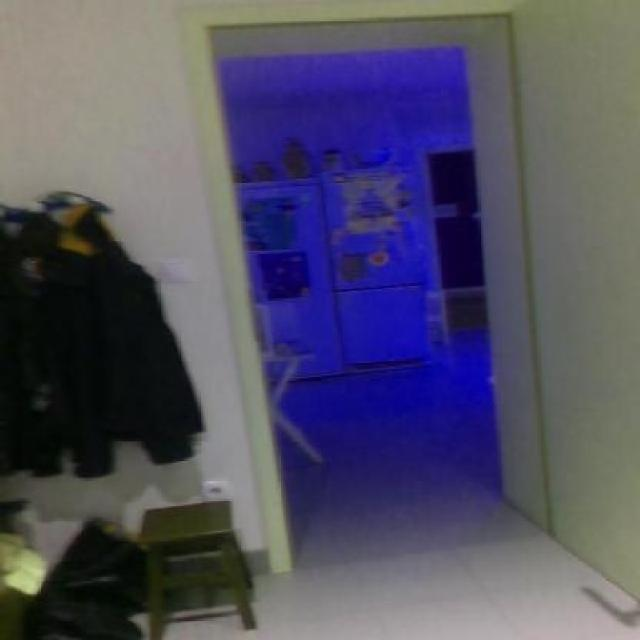door: (202, 0, 556, 582)
